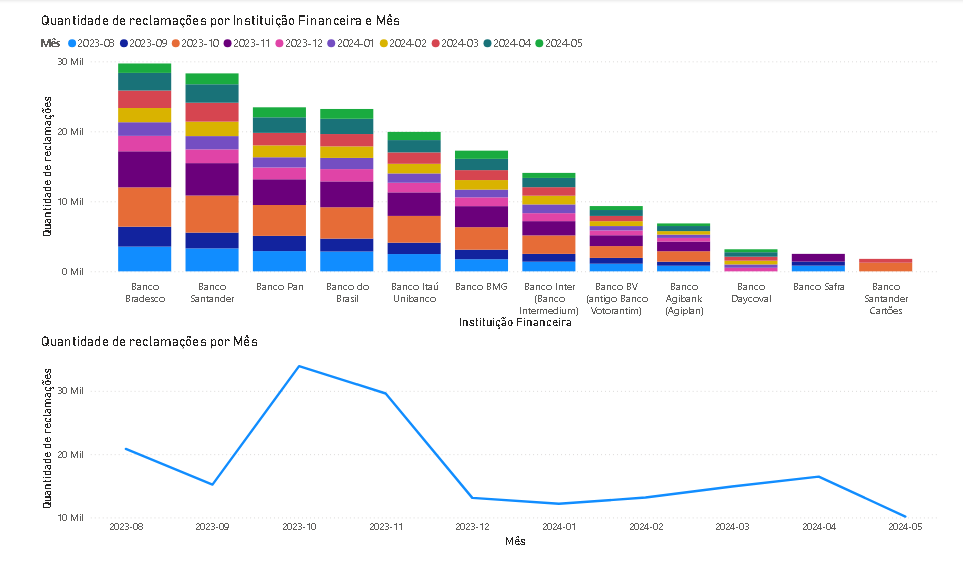

What the dashboard file says about the page in this screenshot:
{"tool":"powerbi","page":{"name":"Quantidade de reclamações","canvas":[1280,720],"ordinal":0},"visuals":[{"type":"columnChart","fields":{"Y":["Sum(reclamacaotopten.qtdreclamcoes)"],"Series":["reclamacaotopten.datrefcarga"],"Category":["reclamacaotopten.Instituição Financeira"]},"box":[56.4,16.3,1137.7,402.6],"z":0},{"type":"lineChart","fields":{"Category":["reclamacaotopten.datrefcarga"],"Y":["Sum(reclamacaotopten.qtdreclamcoes)"]},"box":[56.4,419,1137.7,273.4],"z":1000}]}

Visuals, with their boxes on the page's 1280x720 design canvas (x1, y1, x2, y2). These are canvas units, not pixel positions in the 963x570 screenshot, which may show the page scaled, cropped or inside an application window:
columnChart - Sum(reclamacaotopten.qtdreclamcoes) x reclamacaotopten.datrefcarga: 56 16 1194 419
lineChart - reclamacaotopten.datrefcarga x Sum(reclamacaotopten.qtdreclamcoes): 56 419 1194 692
